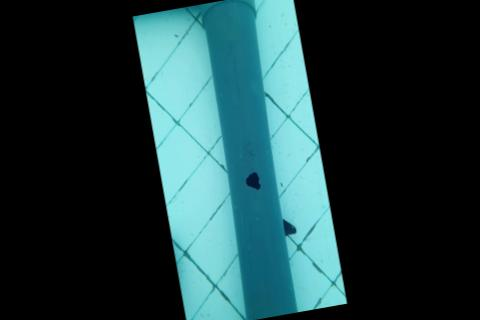kebocoran: (243, 170, 262, 192)
keretakan: (251, 311, 268, 320)
